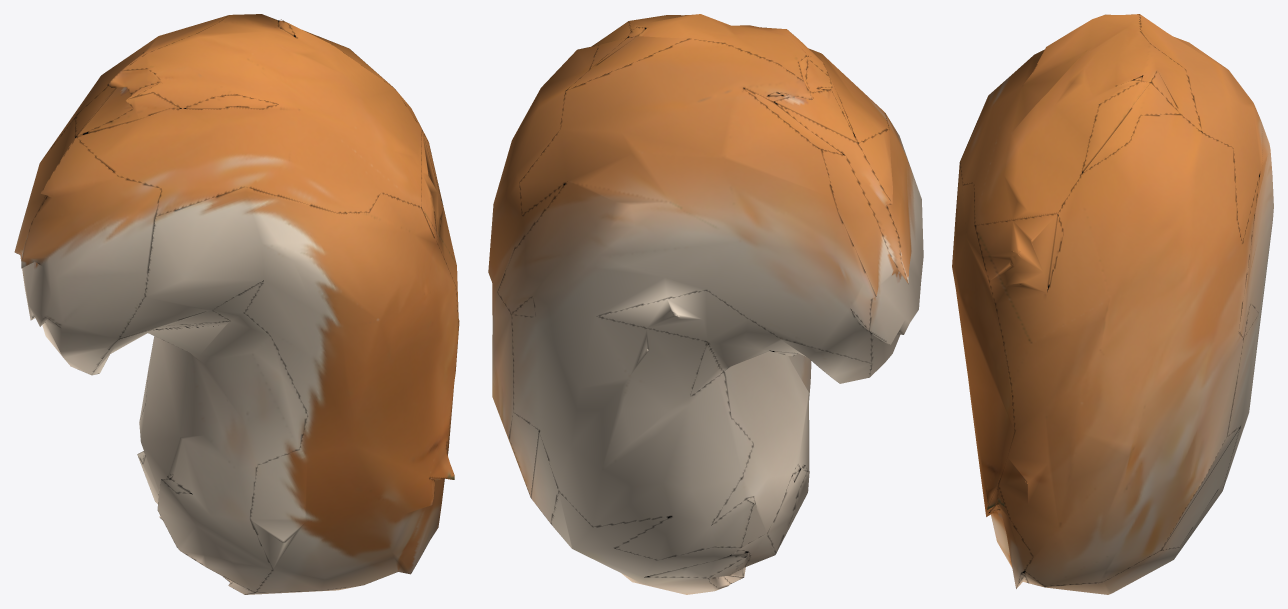
The model's file is tail_low.glb.
3 views of the same model, side by side, from view 1: azimuth 30°, elevation 25°; view 2: azimuth 150°, elevation 25°; view 3: azimuth 270°, elevation 25° (orthographic). The views are drawn at different scales.
Parts seen in each view (by area): view 1: body_low; view 2: body_low; view 3: body_low.
Part boxes in pixels (box(x1,y1,x2,y2)): body_low: box(14, 14, 459, 594); body_low: box(488, 14, 923, 594); body_low: box(952, 14, 1273, 594).
Bounding box in the file's own units: 97.81 × 129 × 73.11.
Materials: 1 (1 with a texture image).
